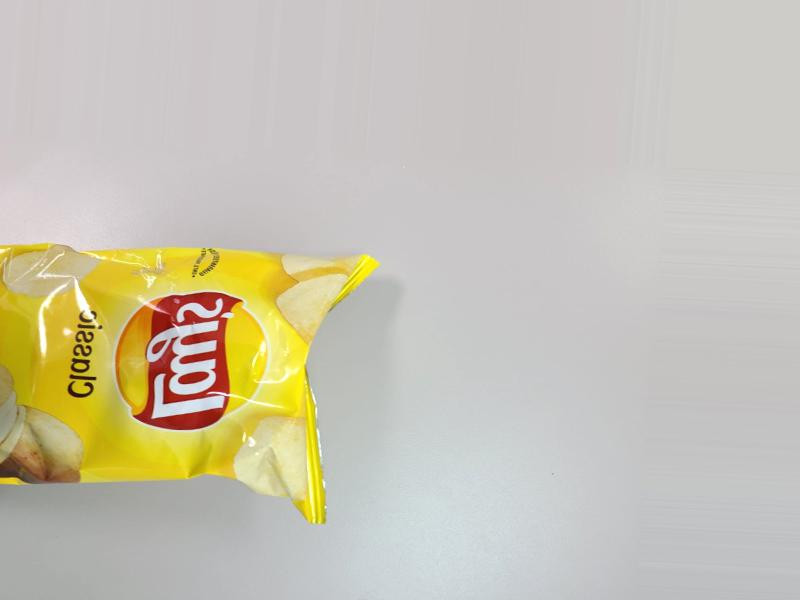lays: (14, 247, 349, 518)
